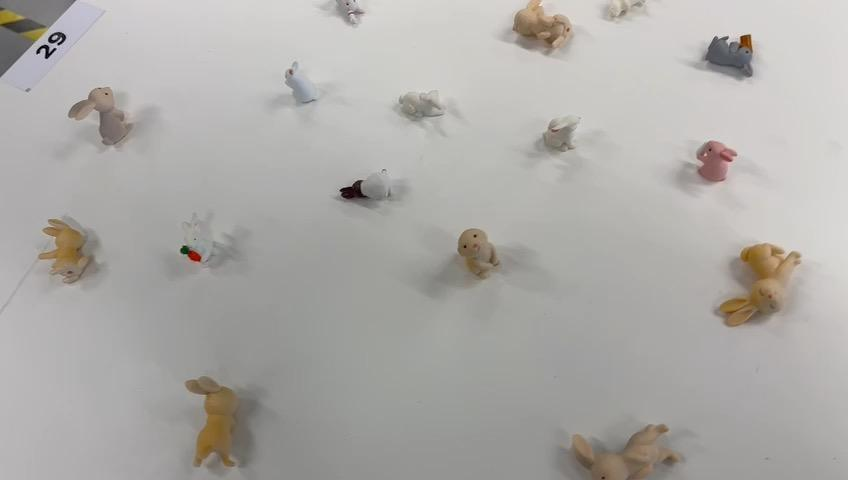pet: (717, 236, 803, 329), (566, 418, 685, 480), (182, 372, 251, 471), (68, 82, 135, 152), (40, 214, 89, 295), (701, 27, 759, 85), (509, 0, 573, 52), (274, 54, 328, 114), (453, 223, 508, 278), (335, 161, 396, 209), (176, 209, 221, 272), (692, 134, 737, 190), (537, 112, 586, 160), (393, 81, 449, 121), (331, 0, 372, 31), (600, 0, 649, 25)
